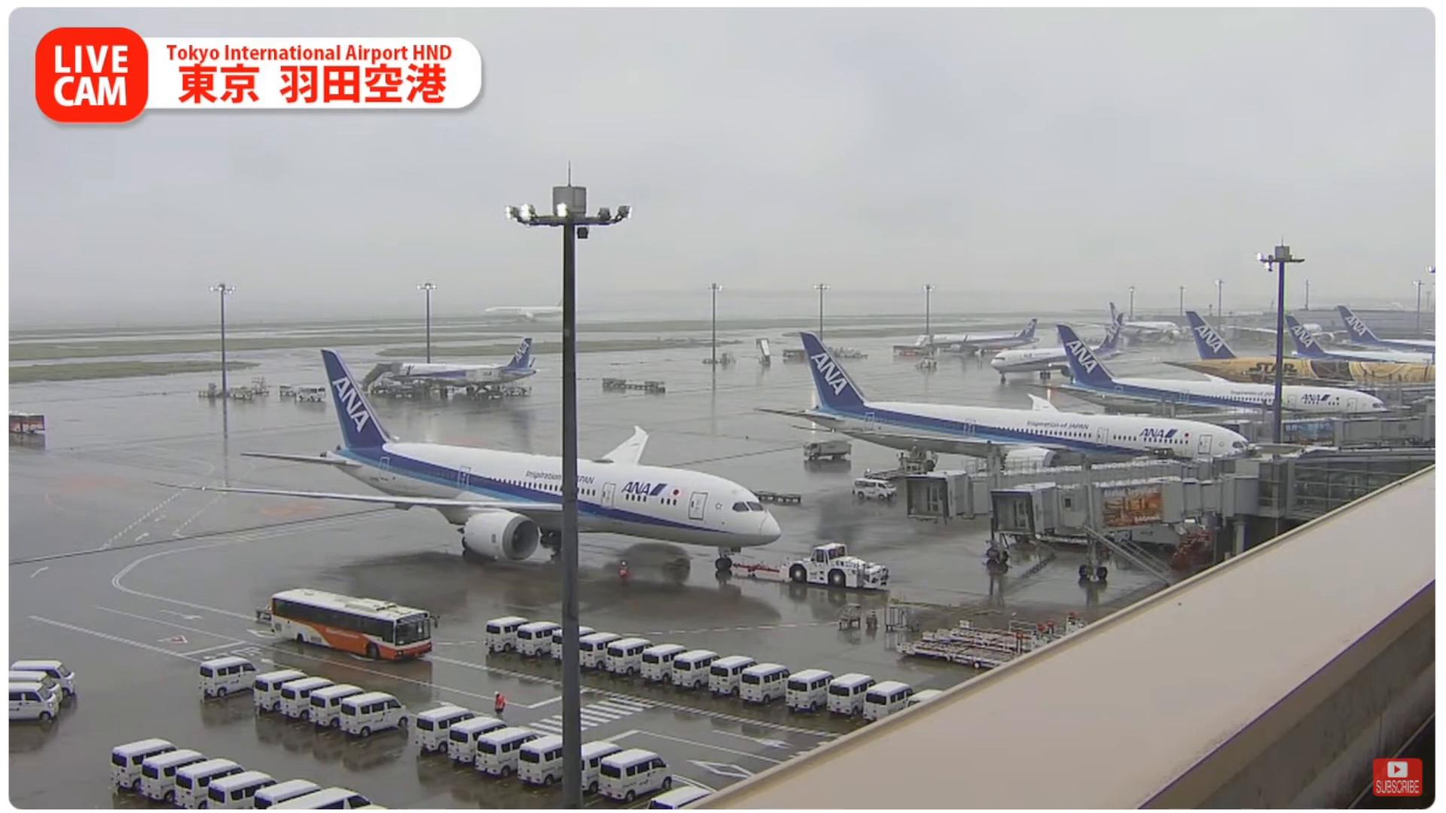APS: (781, 541, 889, 593)
Aerobridge: (904, 455, 1210, 522), (991, 474, 1261, 535)
Airplane: (149, 348, 782, 571)
JCPL: (924, 615, 1087, 656), (895, 630, 1024, 671)
Window: (1292, 458, 1433, 516)
